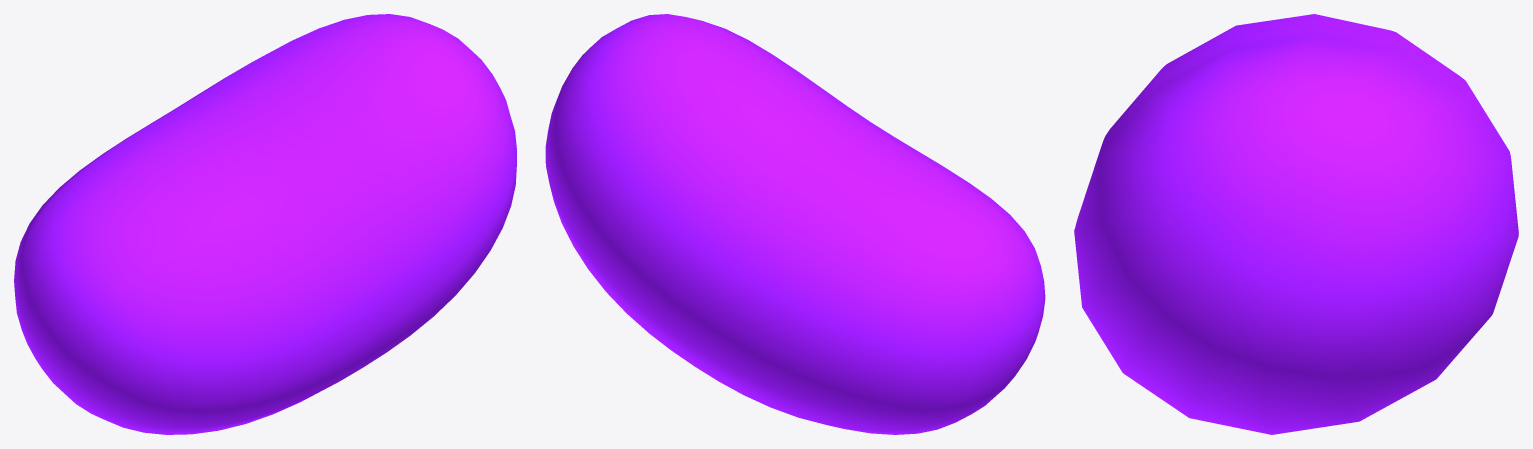
The picture shows the model from 3 angles, left to right: view 1: azimuth 30°, elevation 25°; view 2: azimuth 150°, elevation 25°; view 3: azimuth 270°, elevation 25°; orthographic projection. The views are drawn at different scales.
Visible parts, largest first — view 1: JumboJellyBean.056; view 2: JumboJellyBean.056; view 3: JumboJellyBean.056.
Boxes of the visible parts, x1,y1,x2,y2 form: JumboJellyBean.056: (14,14,516,434); JumboJellyBean.056: (545,14,1045,434); JumboJellyBean.056: (1074,14,1518,434).
Bounding box in the file's own units: 0.5 × 0.353 × 0.3138.
